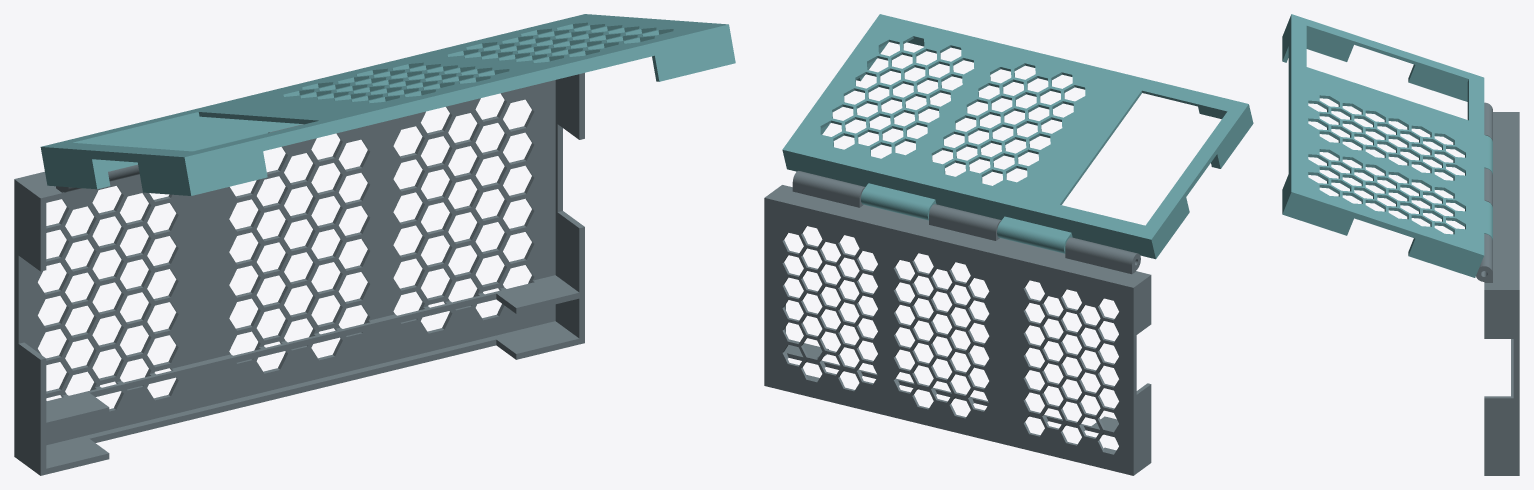
Rendered from assembly.glb.
3 views of the same model, side by side, from view 1: azimuth 30°, elevation 25°; view 2: azimuth 150°, elevation 25°; view 3: azimuth 270°, elevation 25° (orthographic). The views are drawn at different scales.
Visible parts, largest first — view 1: keyboard_tray, phone_tray; view 2: keyboard_tray, phone_tray; view 3: phone_tray, keyboard_tray.
Boxes of the visible parts, x1,y1,x2,y2 form: keyboard_tray: [14, 73, 584, 475]; phone_tray: [40, 14, 735, 195]; keyboard_tray: [764, 171, 1151, 475]; phone_tray: [782, 14, 1253, 259]; phone_tray: [1282, 14, 1492, 277]; keyboard_tray: [1476, 102, 1519, 475].
Bounding box in the file's own units: 155 × 115 × 87.33.
